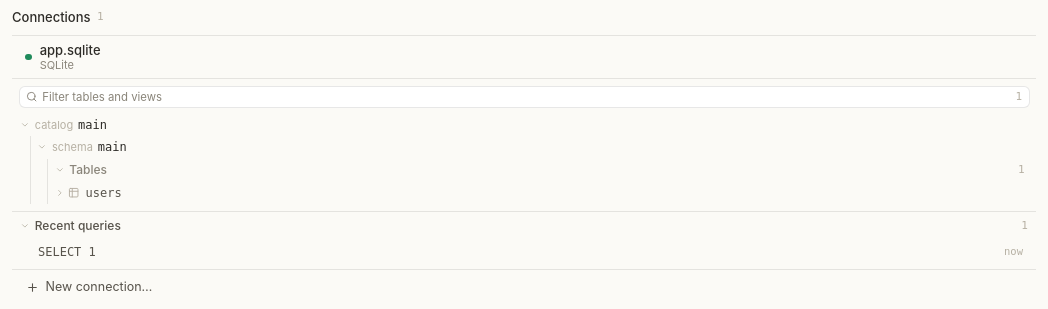
Test: DatabaseNavContent P5 bounded regions › gives each region its own overflow anchor and collapses recent queries independently
Expected: the element showing "app.sqlite SQLite" is shown, [12,36,1036,78]
Expected: the element showing "catalog main schema main Tables 1 users" is shown, [12,113,1036,211]
Click the button with test id "db-history-toggle": (78, 226) [12,212,1036,241]
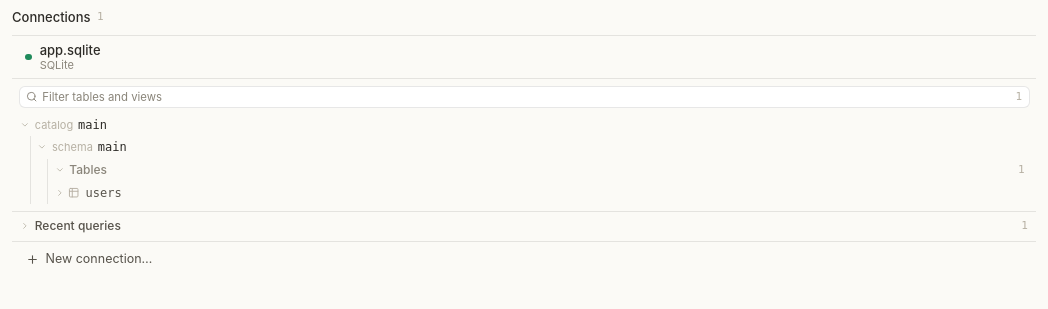
Expected: the element with test id "db-saved-scroll" is shown, [12,36,1036,78]
Expected: the element with test id "db-history-scroll" is gone
